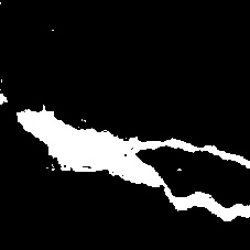crack: (19, 104, 249, 224), (0, 92, 9, 107)
pinhole: (176, 165, 184, 174), (51, 27, 56, 33)
